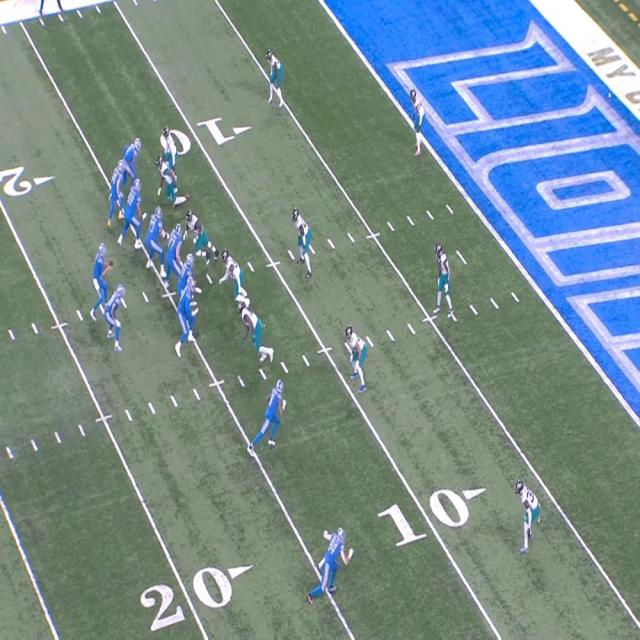db: (517, 480, 540, 540), (434, 245, 450, 302), (411, 88, 424, 156), (267, 50, 285, 94), (160, 128, 178, 168)
lb: (344, 327, 367, 389), (293, 209, 312, 276)
qb: (90, 238, 110, 320)
skill: (262, 381, 284, 445), (322, 526, 346, 583), (105, 282, 125, 350), (121, 138, 144, 188), (111, 160, 122, 227)
